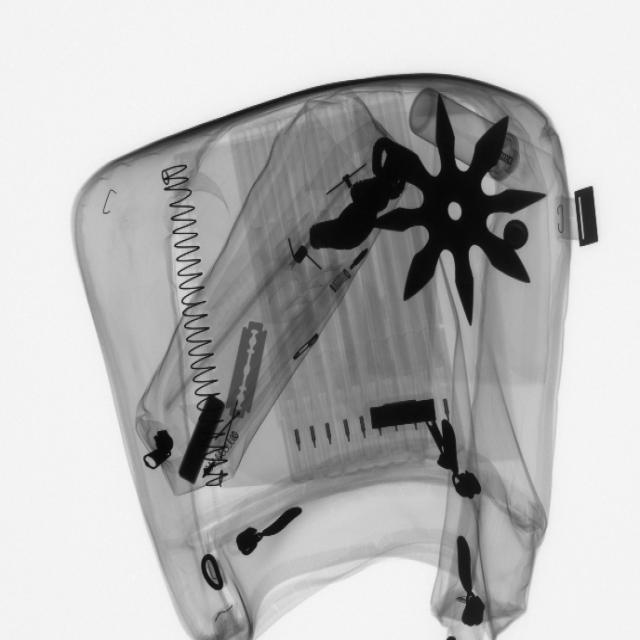BLADE: (225, 318, 271, 426)
SHURIKEN: (364, 95, 548, 328)
